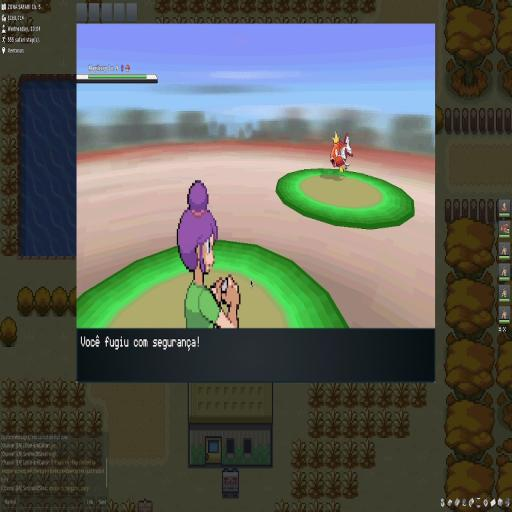MAGIKARP: (330, 131, 354, 174)
